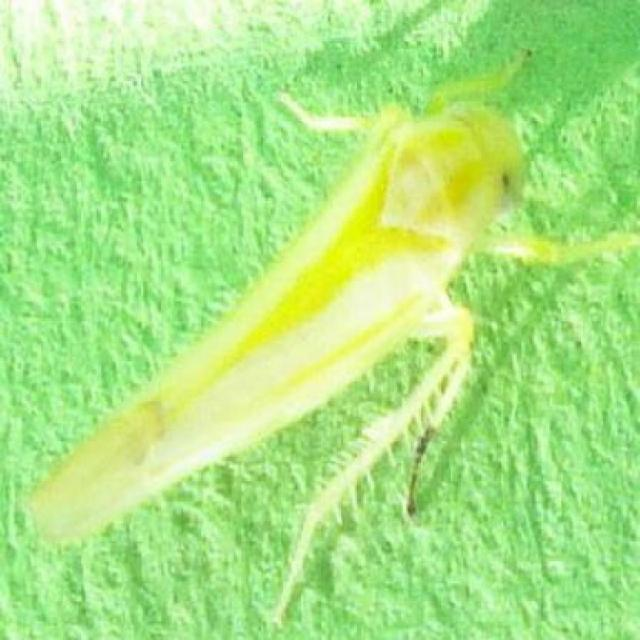green-leafhopper: (42, 94, 532, 552)
